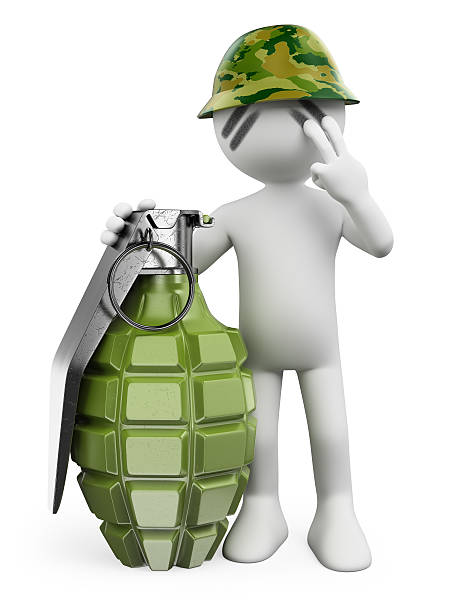e1: (50, 209, 258, 570)
